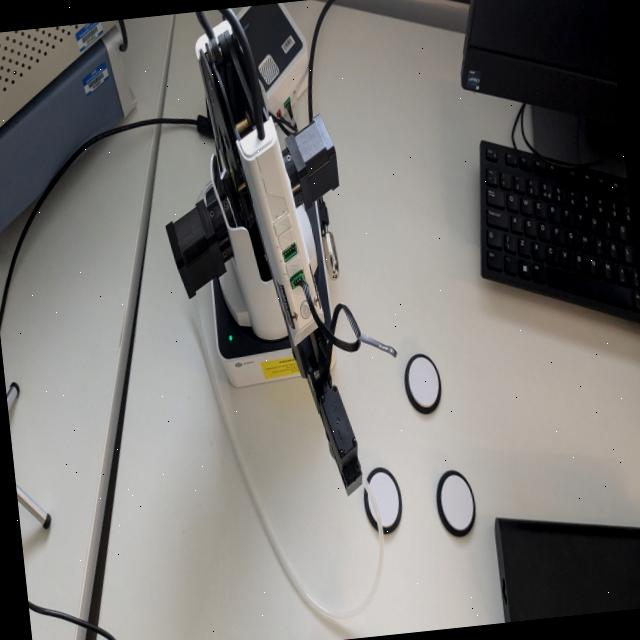Robot-end-effector-HF8z: (312, 374, 365, 499)
